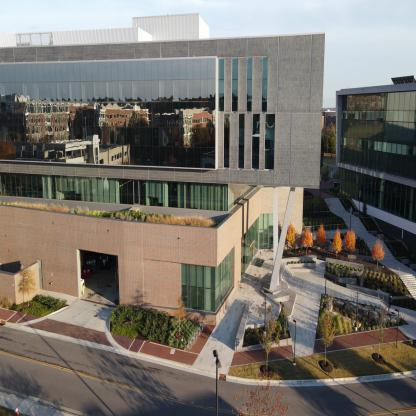Fitts- Woolard: (2, 9, 324, 336)
Hunt Library: (332, 69, 415, 313)
